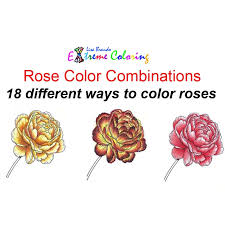lale: (158, 107, 221, 192), (82, 105, 150, 179), (8, 112, 74, 177)
